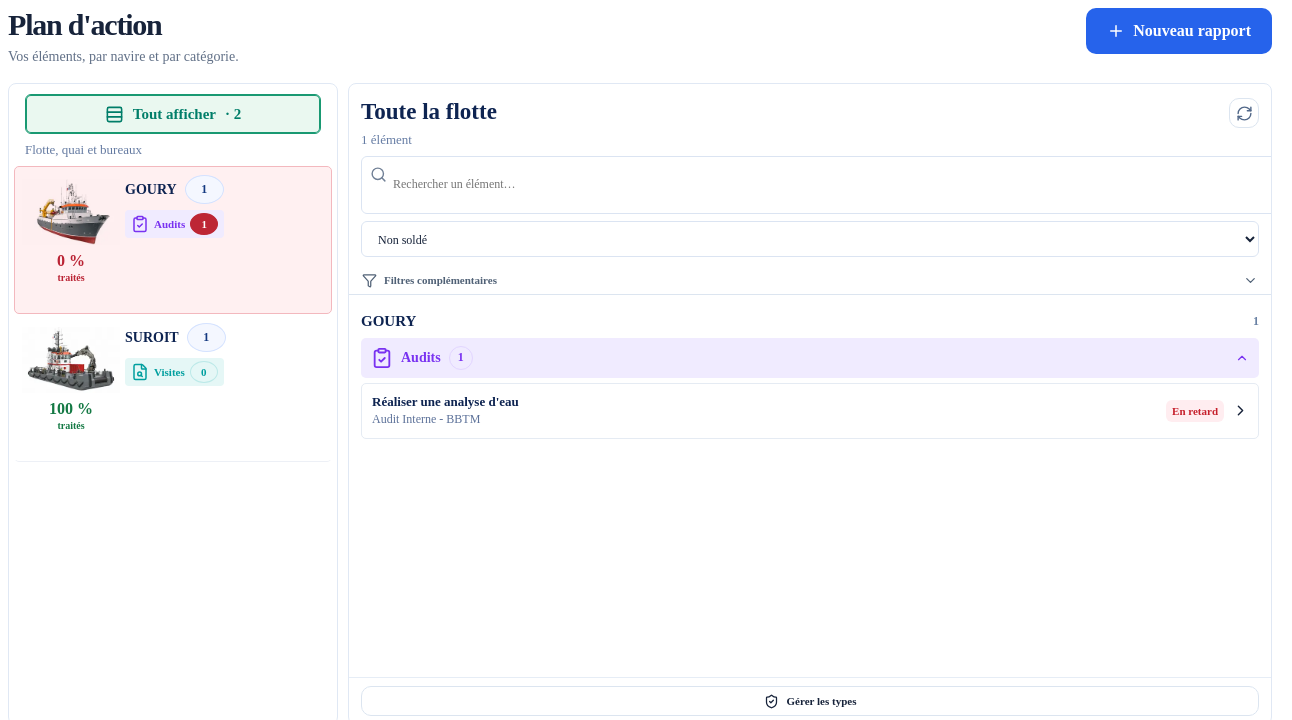
Test: ActionPlanPage › hides closed reports by default, retrieves them through status and opens the detail only on a report click
This screenshot has width=1292, height=720.
Check: the heading "Plan d'action" is shown, box [8, 8, 162, 41]
Check: the dropdown named "Statut" shows "Non soldé", box [361, 221, 1259, 257]
Click the button with aria-label "Afficher SUROIT · 1 élément" at (224, 338), box [125, 323, 324, 352]
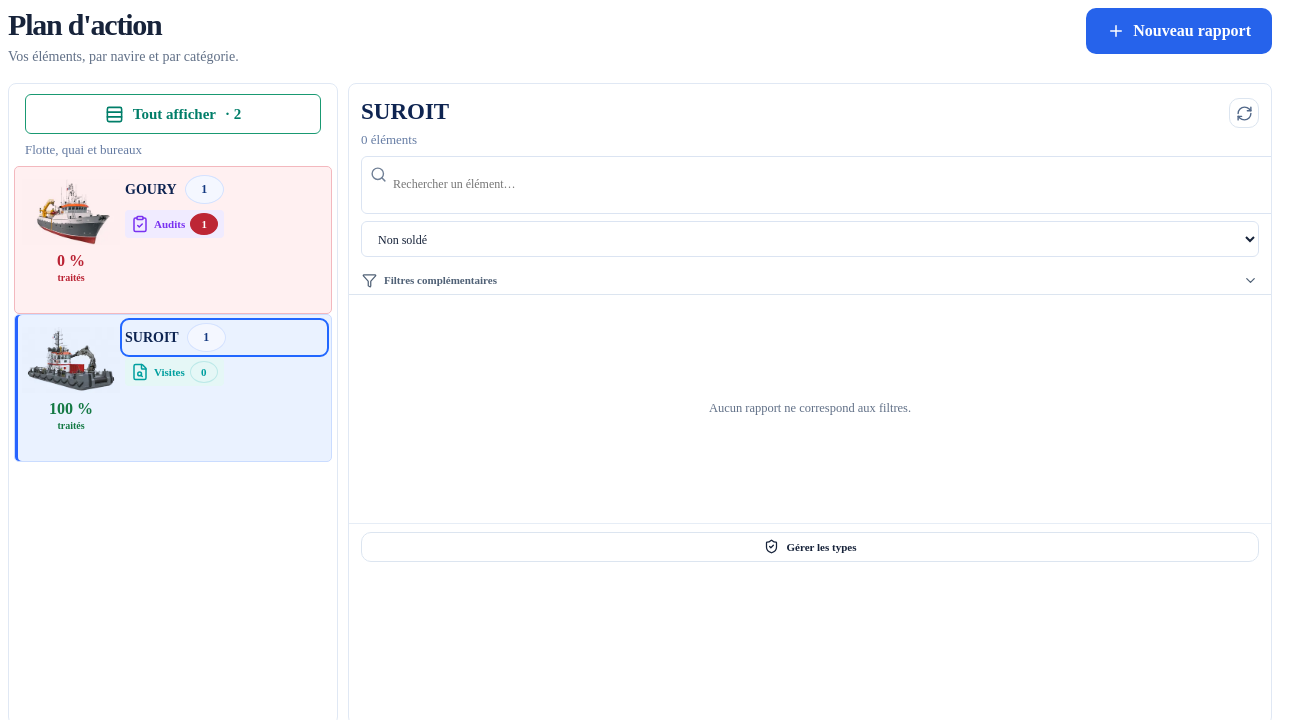
Select "Soldé" in the dropdown named "Statut" at (810, 239), box [361, 221, 1259, 257]
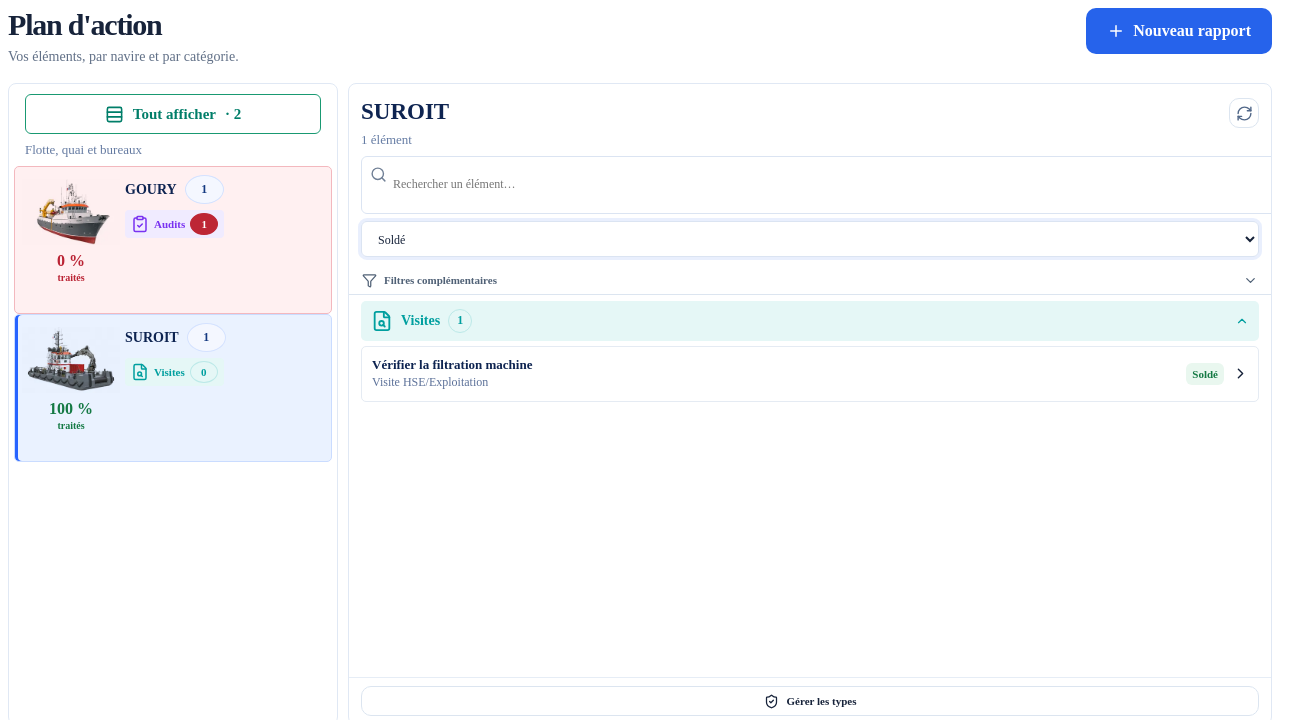
Check: the text "Vérifier la filtration machine" is shown, box [372, 357, 532, 372]
Click the button with aria-label "Vérifier la filtration machine · SUROIT" at (452, 365), box [361, 346, 1259, 402]
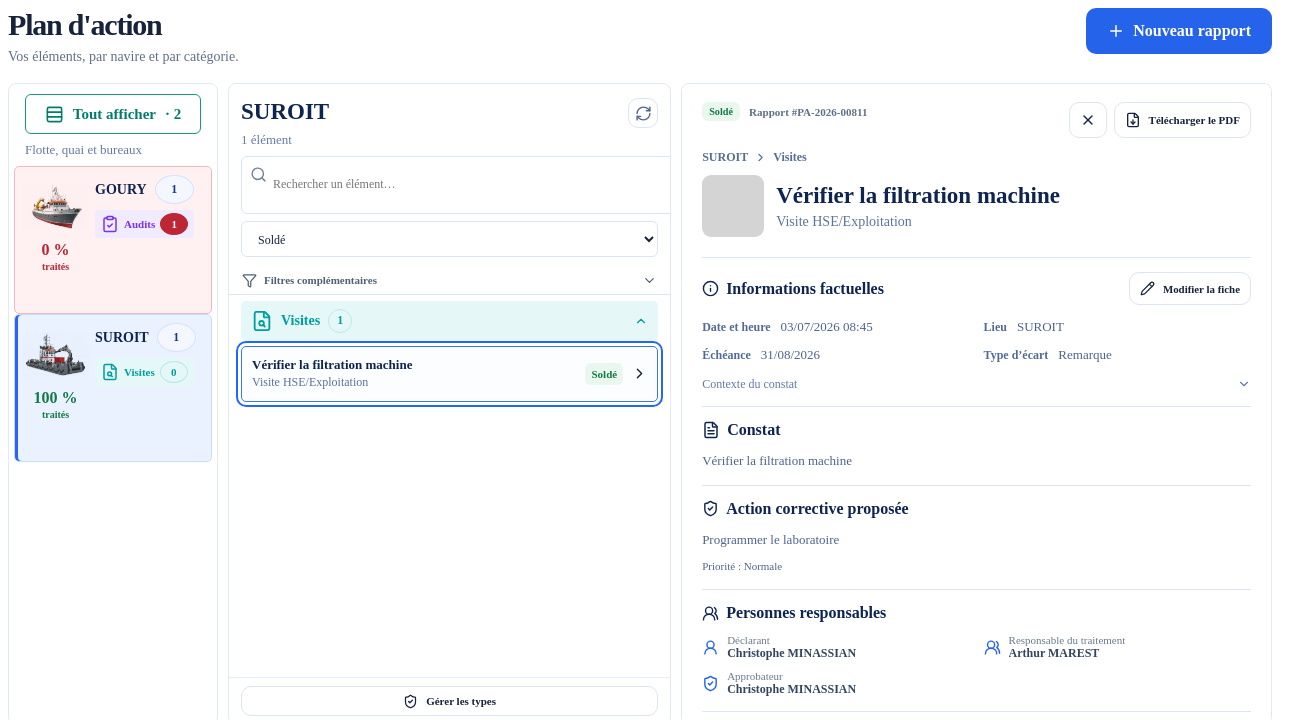
Check: the heading "Vérifier la filtration machine" is shown, box [776, 182, 1060, 209]
Click the button named "Fermer le rapport" at (1088, 120), box [1069, 102, 1107, 138]
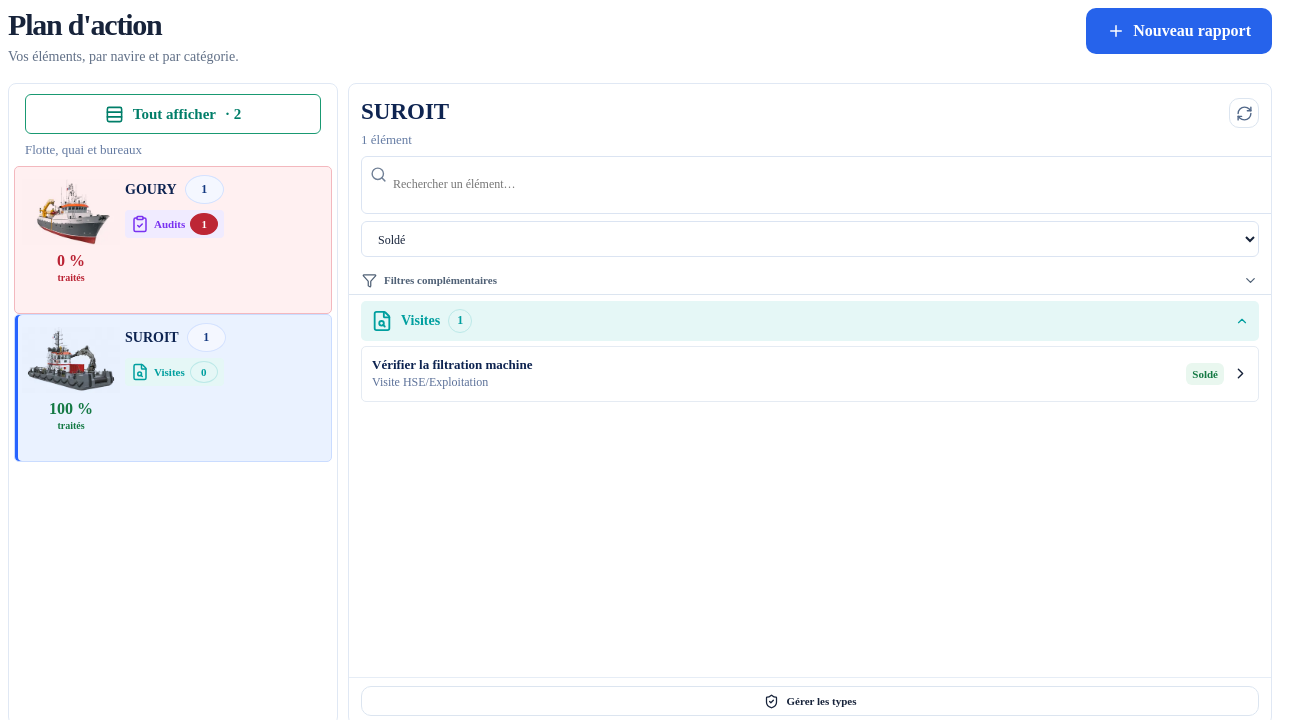
Select "Tous les statuts" in the dropdown named "Statut" at (810, 239), box [361, 221, 1259, 257]
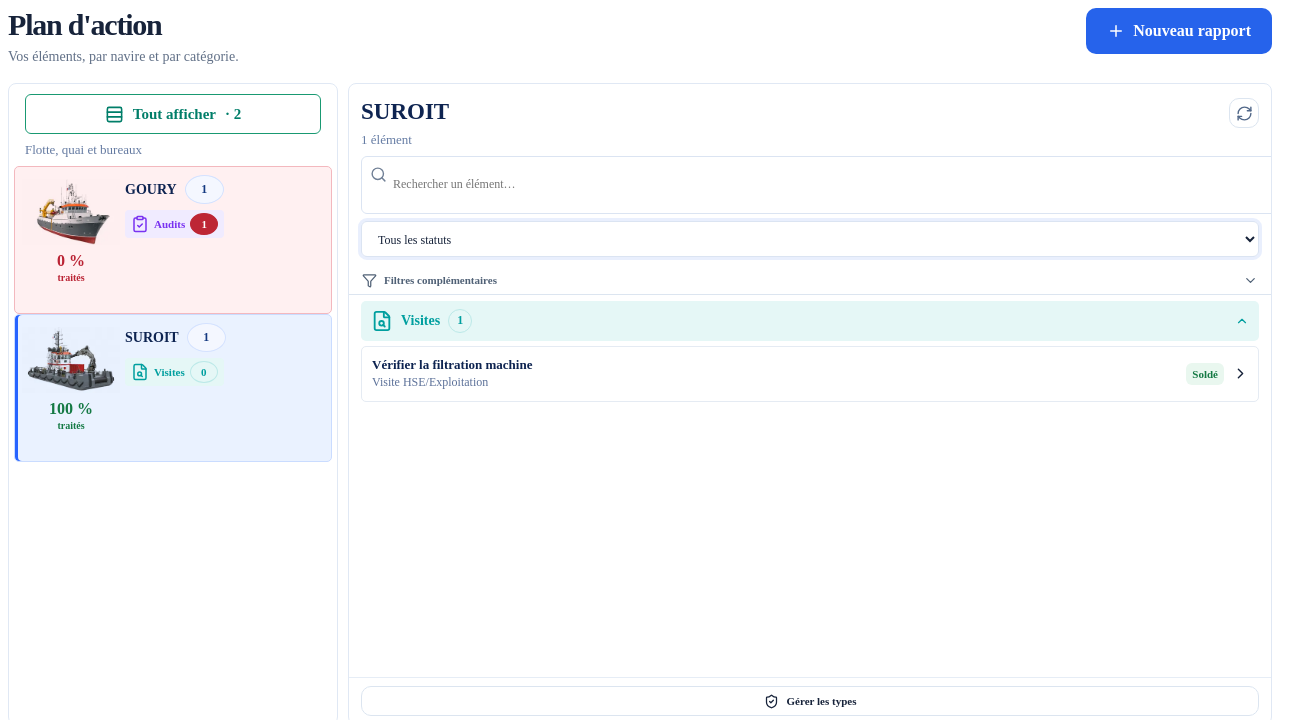
Click the button "Tout afficher · 2" at (173, 114), box [25, 94, 321, 134]
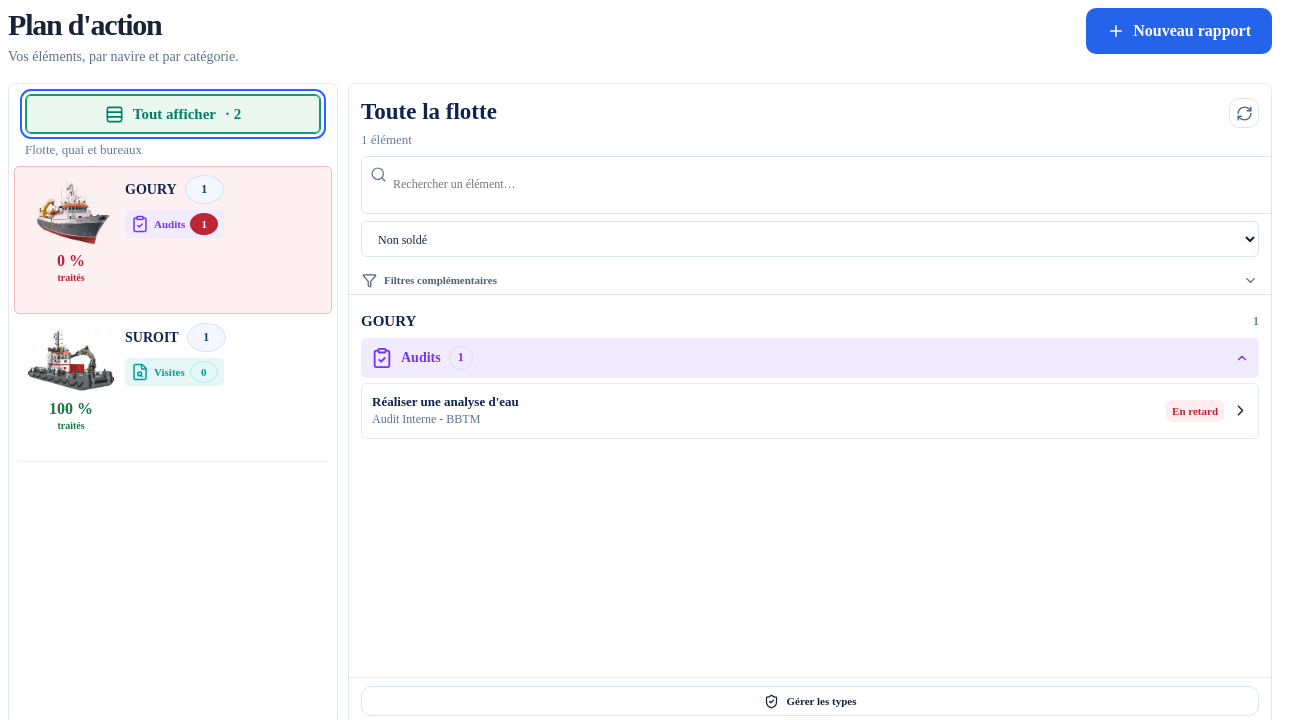
Check: the button "Vérifier la filtration machine" is gone
